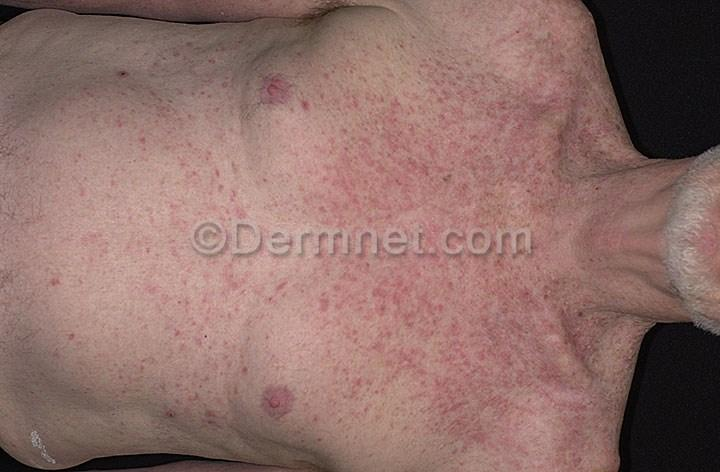Eczema: (148, 248, 334, 353), (441, 176, 559, 316), (519, 17, 611, 158), (323, 118, 430, 239), (142, 126, 247, 240), (447, 318, 545, 423), (538, 331, 625, 448), (439, 60, 529, 172), (338, 245, 435, 342), (54, 166, 139, 253), (36, 287, 113, 359), (154, 383, 221, 443), (123, 69, 181, 128)
